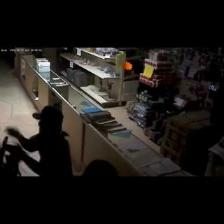person: (6, 106, 72, 176)
